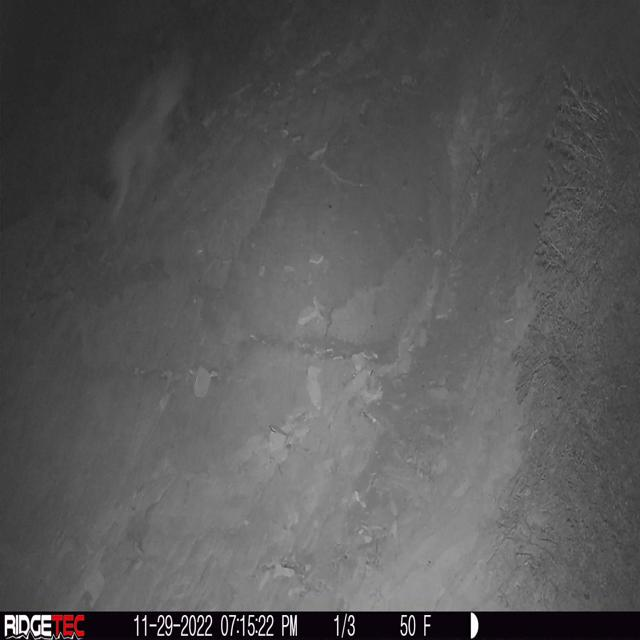coyote: (102, 45, 196, 226)
